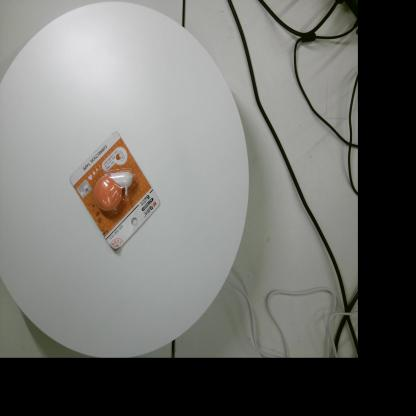Stationery: (70, 132, 160, 252)
